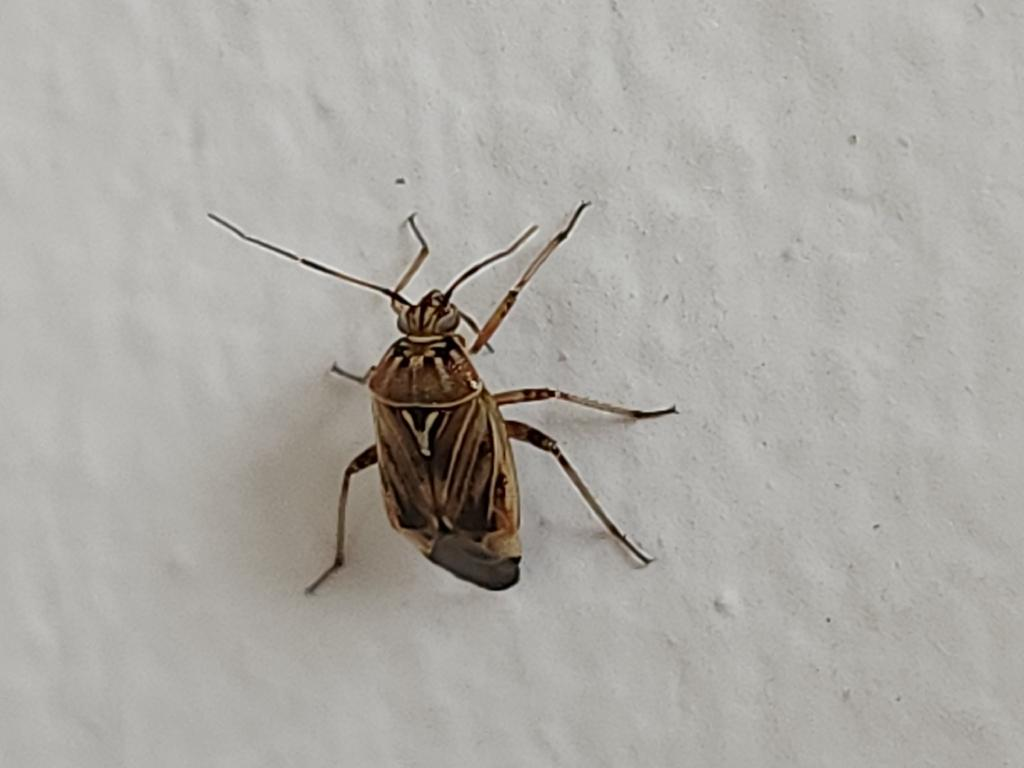plant_bugs: (170, 121, 762, 691)
